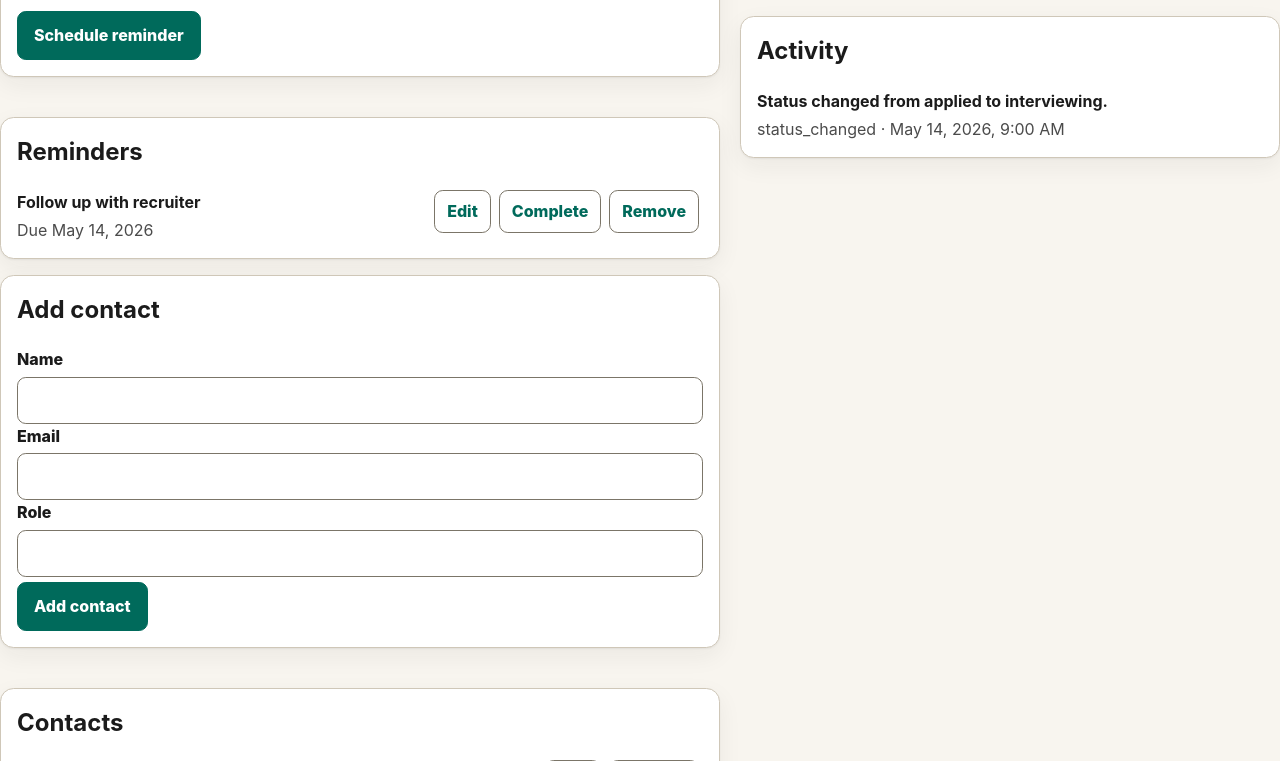
ApplicationDetailPage › adds a contact
(page scrolled)
Type "Sam Recruiter" into the field labelled "Name" at [360, 400], box [17, 377, 703, 424]
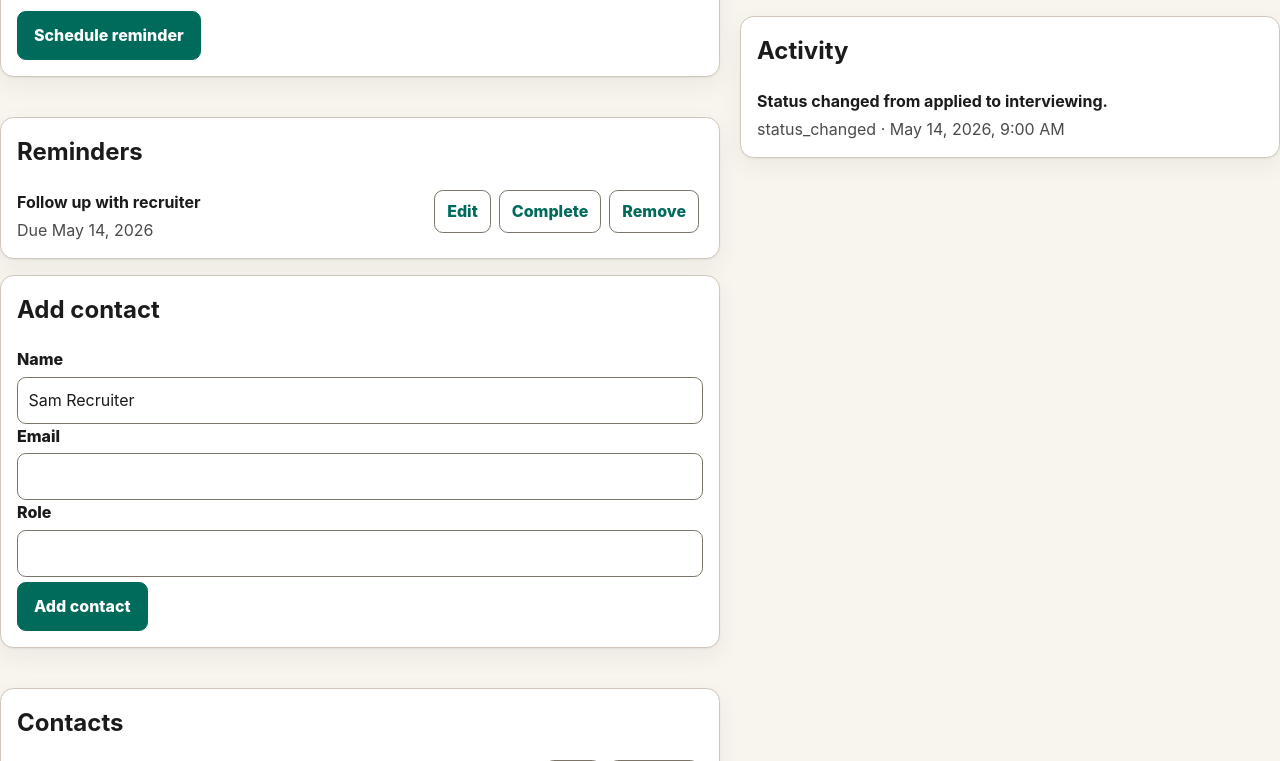
Type "sam@example.com" into the field labelled "Email" at [360, 477], box [17, 453, 703, 500]
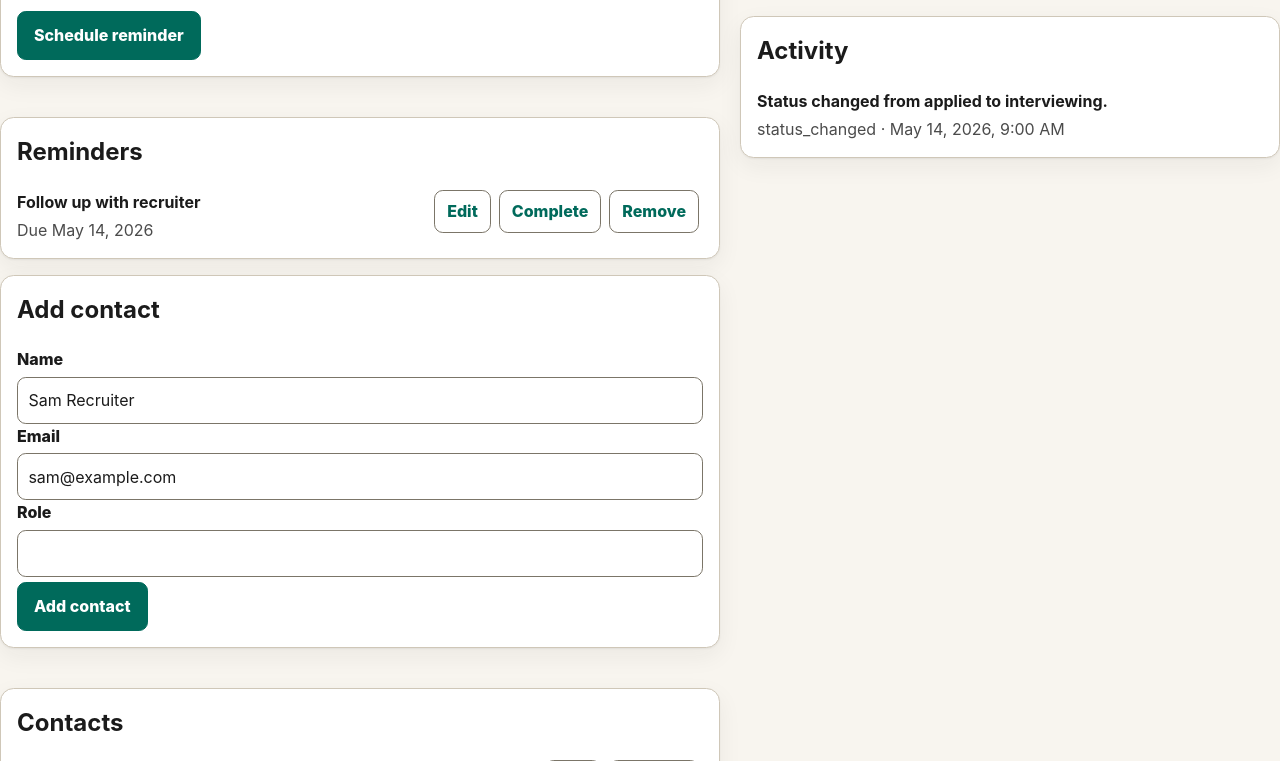
Type "Recruiter" into the field labelled "Role" at [360, 553], box [17, 530, 703, 577]
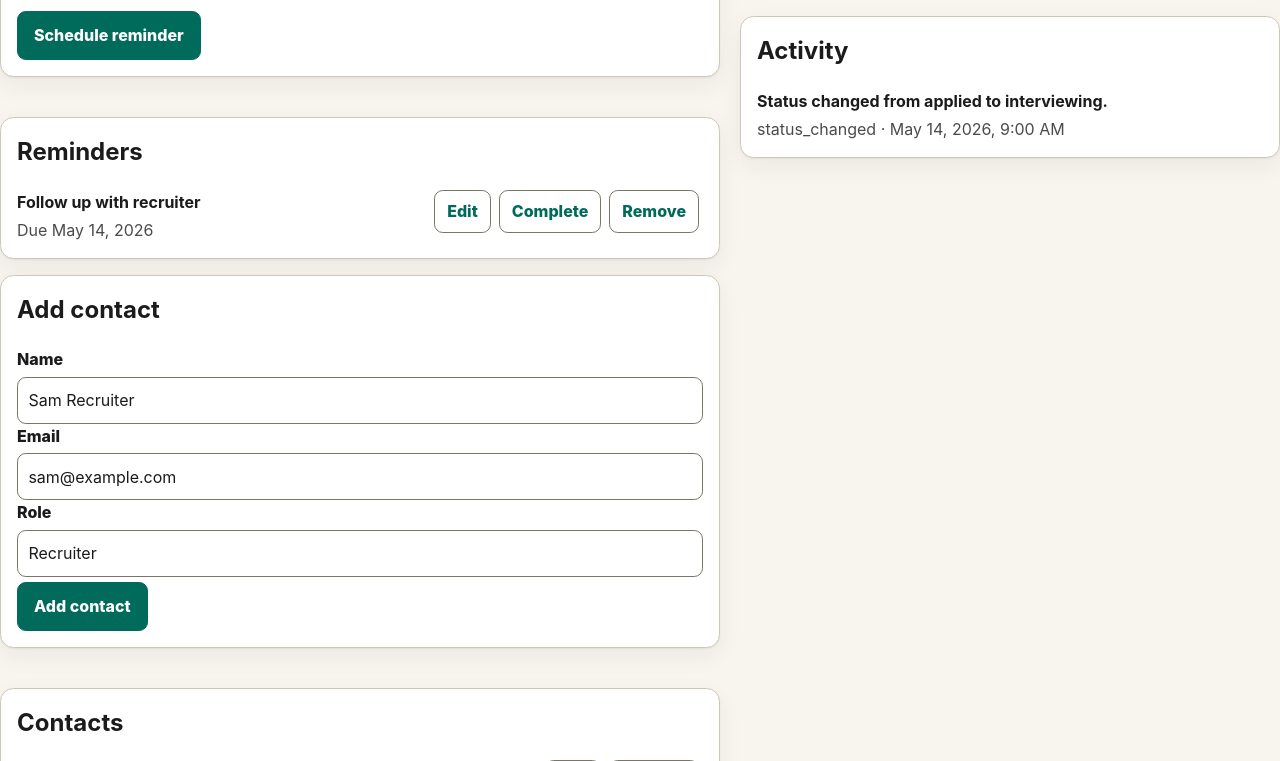
Click the button "Add contact" at [82, 606], box [17, 582, 148, 630]
(page scrolled)
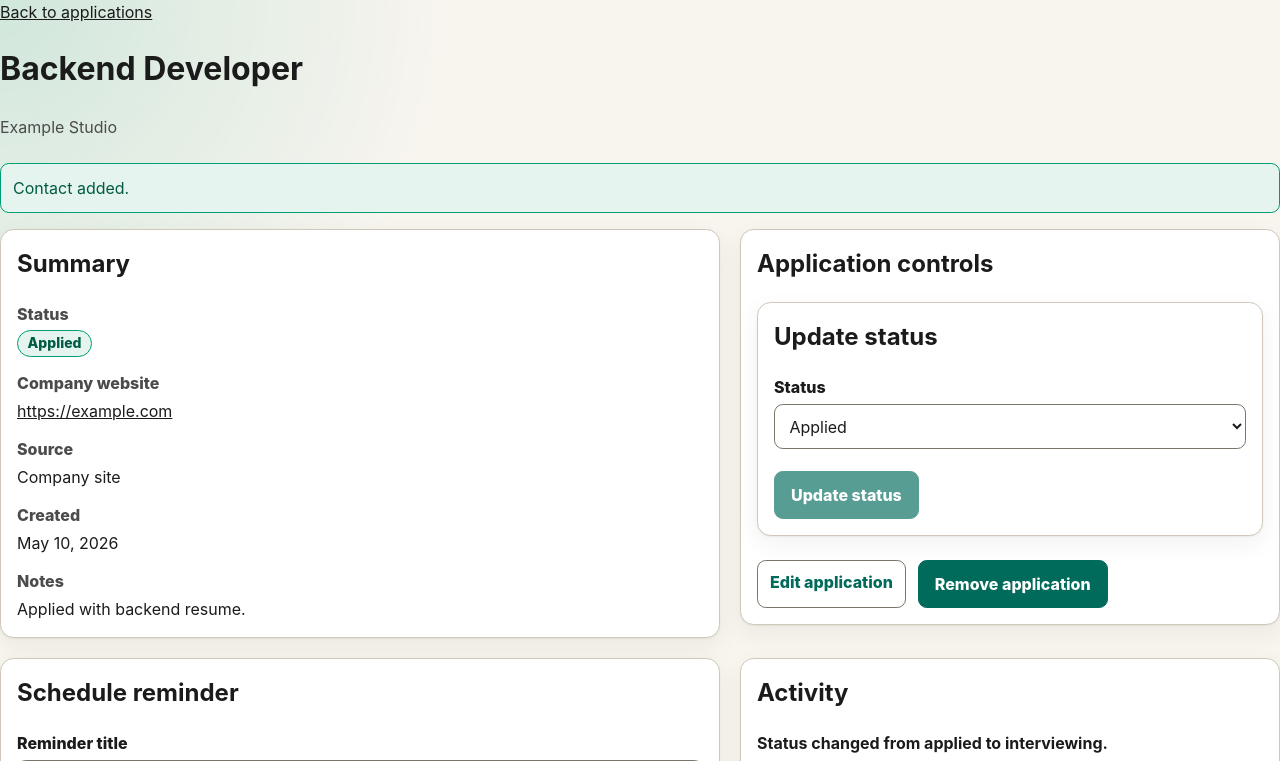
Check: the message reads "Contact added.", box [13, 178, 129, 198]
